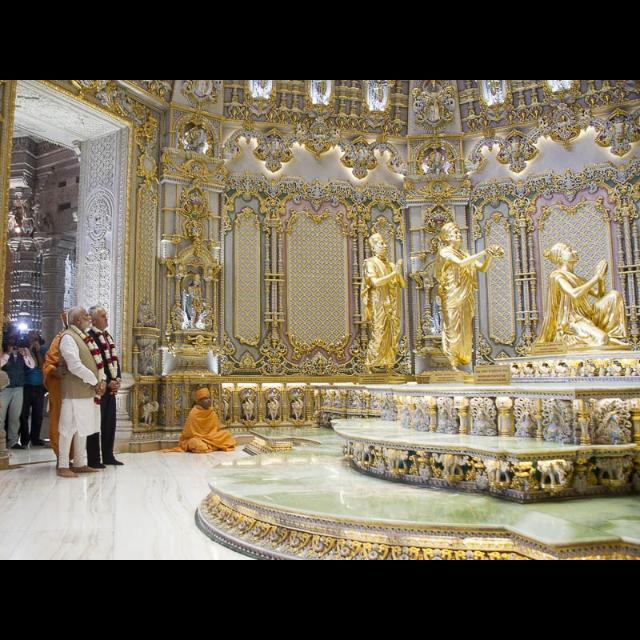head: (86, 304, 110, 330), (68, 306, 94, 330), (68, 309, 86, 331), (195, 392, 212, 411), (8, 326, 22, 342), (27, 332, 41, 348)
person: (54, 303, 108, 481), (40, 307, 94, 477), (80, 302, 128, 472), (155, 385, 241, 459), (0, 323, 38, 453), (16, 327, 48, 451)
